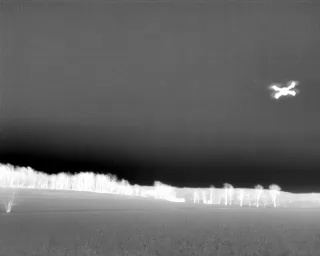DRONE: (265, 76, 303, 104)
